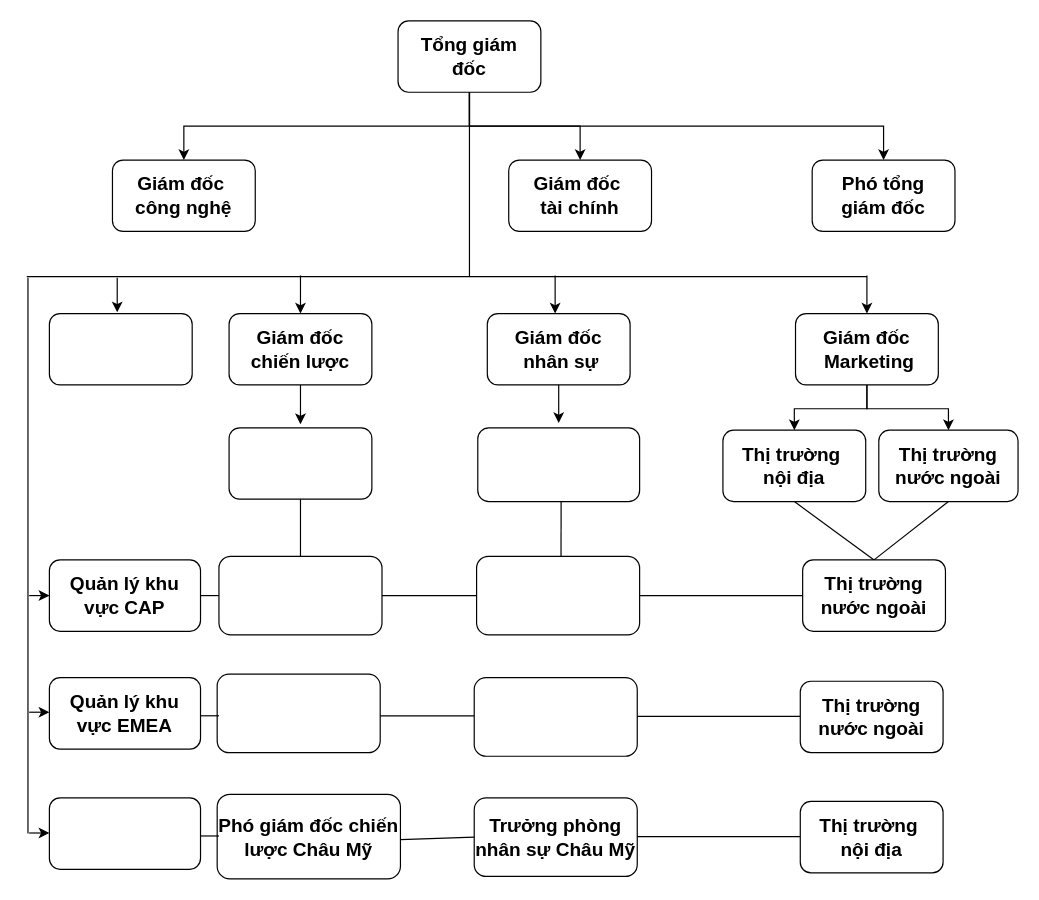
This 1039x900 diagram has some shape labels left out. The box of each missing label's shape, as (x1, y1, x2, y2) in pixels:
Ban giám đốc: (48, 312, 192, 385)
Phó giám đốc chiến lược: (228, 427, 372, 499)
Phó giám đốc chiến lược CAP: (218, 555, 382, 635)
Phó giám đốc chiến lược EMEA: (216, 673, 380, 753)
Quản lý khu vực Châu Mỹ: (48, 797, 201, 869)
Trưởng phòng nhân sự CAP: (475, 555, 640, 635)
Trưởng phòng nhân sự EMEA: (473, 677, 637, 756)
Trưởng phòng nhân sự khu vực: (477, 427, 640, 502)
